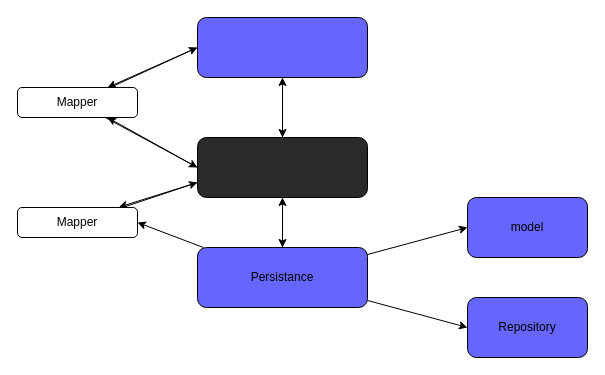
Image size: 605x375. Some labels were removed from this diagram. The centre of each missing label's shape, as x and y in pixels:
API (Controller): (282,47)
Service: (282,167)
